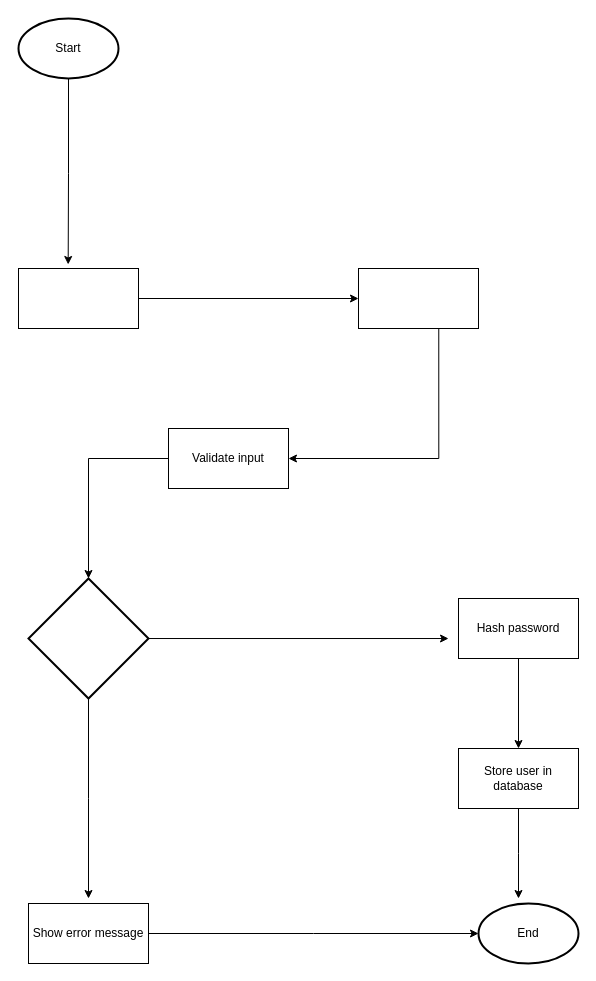
Image size: 596x981. Some labels were removed from this diagram. Each missing label, with the centre of its shape:
"Enter user details" belongs at point 418,298.
"Is email already registered?" belongs at point 88,638.
"Send verification email" belongs at point 78,298.
